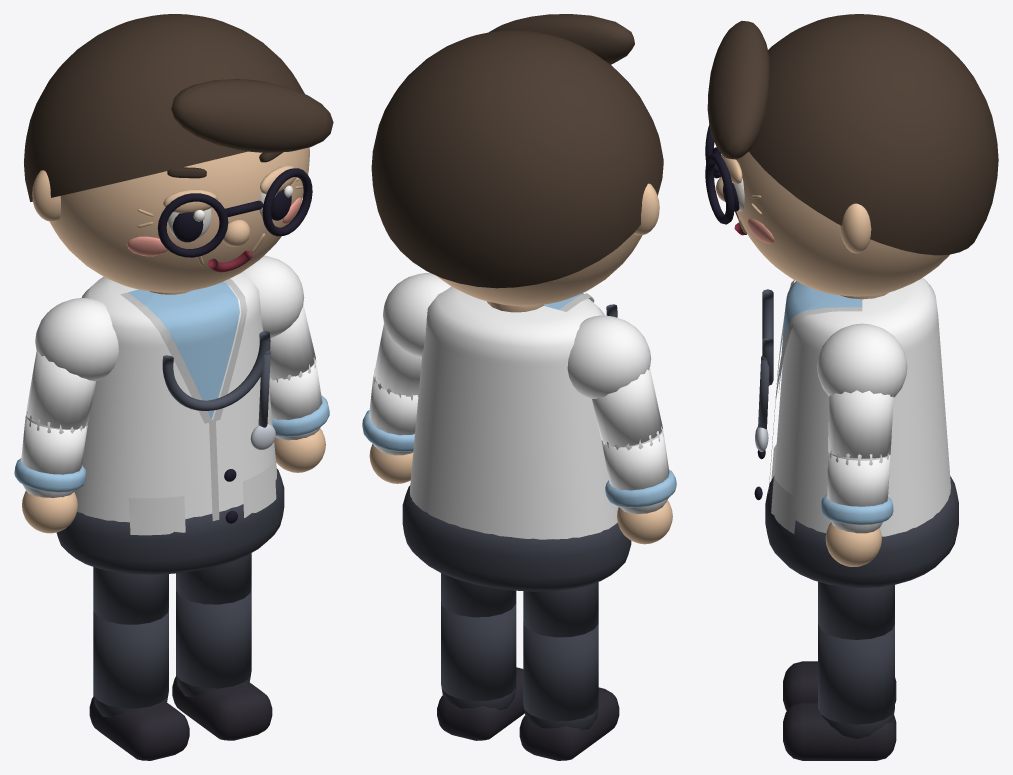
File: ch_doctor.fbx
3 views of the same model, side by side, from view 1: azimuth 30°, elevation 25°; view 2: azimuth 150°, elevation 25°; view 3: azimuth 270°, elevation 25° (orthographic).
Visible parts, largest first — view 1: ch_doctor; view 2: ch_doctor; view 3: ch_doctor.
Boxes of the visible parts, x1,y1,x2,y2 form: ch_doctor: (14, 14, 333, 760); ch_doctor: (362, 14, 676, 760); ch_doctor: (705, 14, 998, 760).
Bounding box in the file's own units: 0.7164 × 1.57 × 0.5911.
